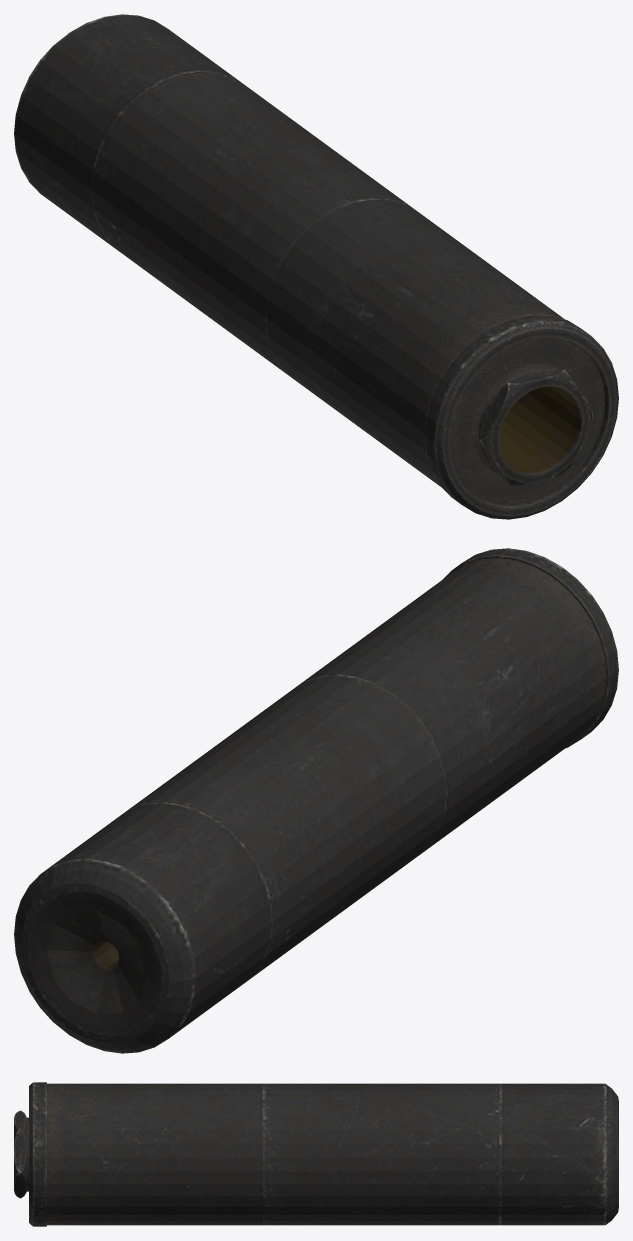
3 views of the same model, one above another, from view 1: azimuth 30°, elevation 25°; view 2: azimuth 150°, elevation 25°; view 3: azimuth 270°, elevation 25° (orthographic). The views are drawn at different scales.
Visible parts, largest first — view 1: TW_630f2982cdb9e392db0cbcc7_PZ_Import; view 2: TW_630f2982cdb9e392db0cbcc7_PZ_Import; view 3: TW_630f2982cdb9e392db0cbcc7_PZ_Import.
Part boxes in pixels (x1,y1,x2,y2): TW_630f2982cdb9e392db0cbcc7_PZ_Import: [14, 14, 618, 519]; TW_630f2982cdb9e392db0cbcc7_PZ_Import: [14, 548, 618, 1053]; TW_630f2982cdb9e392db0cbcc7_PZ_Import: [14, 1082, 618, 1226].
Size of the model in its own units: 0.0283 by 0.1186 by 0.0283.
1 material, 1 textured.
